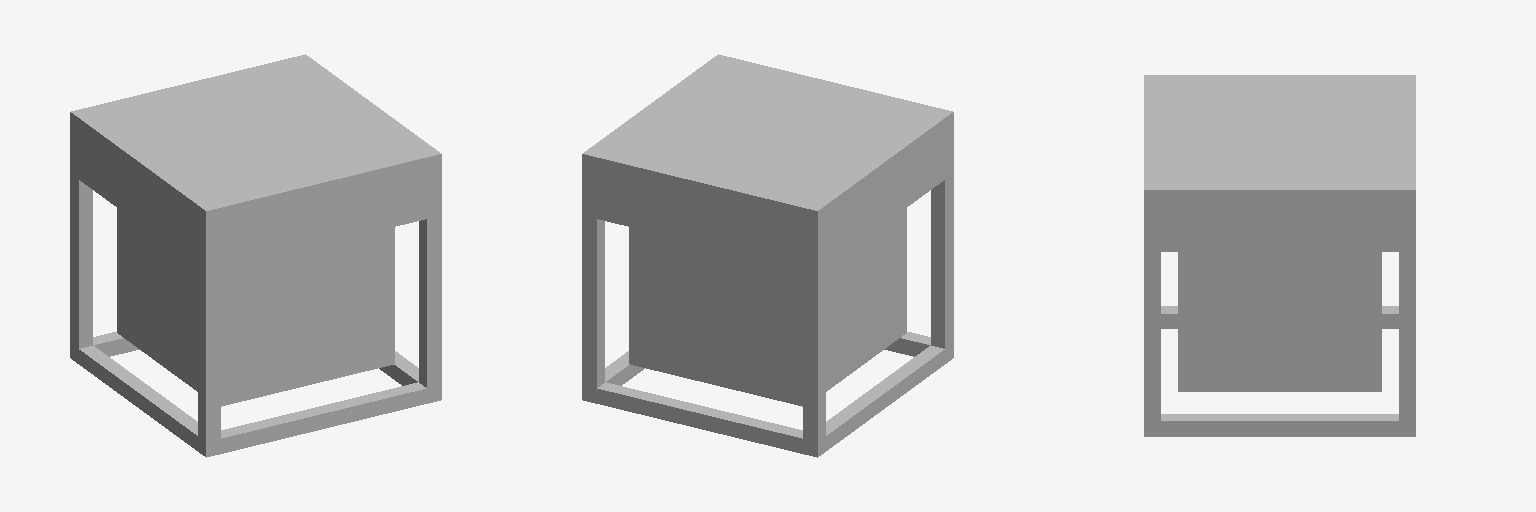
Rendered from controller_solar.obj.
The picture shows the model from 3 angles: view 1: azimuth 30°, elevation 25°; view 2: azimuth 150°, elevation 25°; view 3: azimuth 270°, elevation 25°; orthographic projection.
Visible parts, largest first — view 1: ControllerBase, Brain, rod_6, rod_2, rod_4, rod_1, rod_7, rod_8, rod_5; view 2: ControllerBase, Brain, rod_5, rod_1, rod_3, rod_2, rod_7, rod_8, rod_6; view 3: ControllerBase, Brain, rod_8, rod_3, rod_4, rod_7.
Boxes of the visible parts, x1=… form: ControllerBase: x1=70, y1=54, x2=441, y2=272; Brain: x1=117, y1=208, x2=394, y2=406; rod_6: x1=221, y1=382, x2=426, y2=453; rod_2: x1=198, y1=267, x2=220, y2=457; rod_4: x1=419, y1=215, x2=441, y2=403; rod_1: x1=70, y1=174, x2=92, y2=363; rod_7: x1=79, y1=345, x2=197, y2=450; rod_8: x1=379, y1=351, x2=418, y2=385; rod_5: x1=93, y1=332, x2=139, y2=356; ControllerBase: x1=582, y1=54, x2=953, y2=272; Brain: x1=629, y1=208, x2=906, y2=406; rod_5: x1=597, y1=382, x2=802, y2=453; rod_1: x1=803, y1=267, x2=825, y2=457; rod_3: x1=582, y1=215, x2=604, y2=403; rod_2: x1=931, y1=174, x2=953, y2=363; rod_7: x1=826, y1=345, x2=944, y2=450; rod_8: x1=605, y1=351, x2=644, y2=385; rod_6: x1=884, y1=332, x2=930, y2=356; ControllerBase: x1=1144, y1=75, x2=1415, y2=251; Brain: x1=1178, y1=252, x2=1381, y2=391; rod_8: x1=1161, y1=414, x2=1398, y2=436; rod_3: x1=1399, y1=252, x2=1415, y2=436; rod_4: x1=1144, y1=252, x2=1160, y2=436; rod_7: x1=1161, y1=306, x2=1398, y2=328.
Bounding box in the file's own units: 1 × 1 × 1.